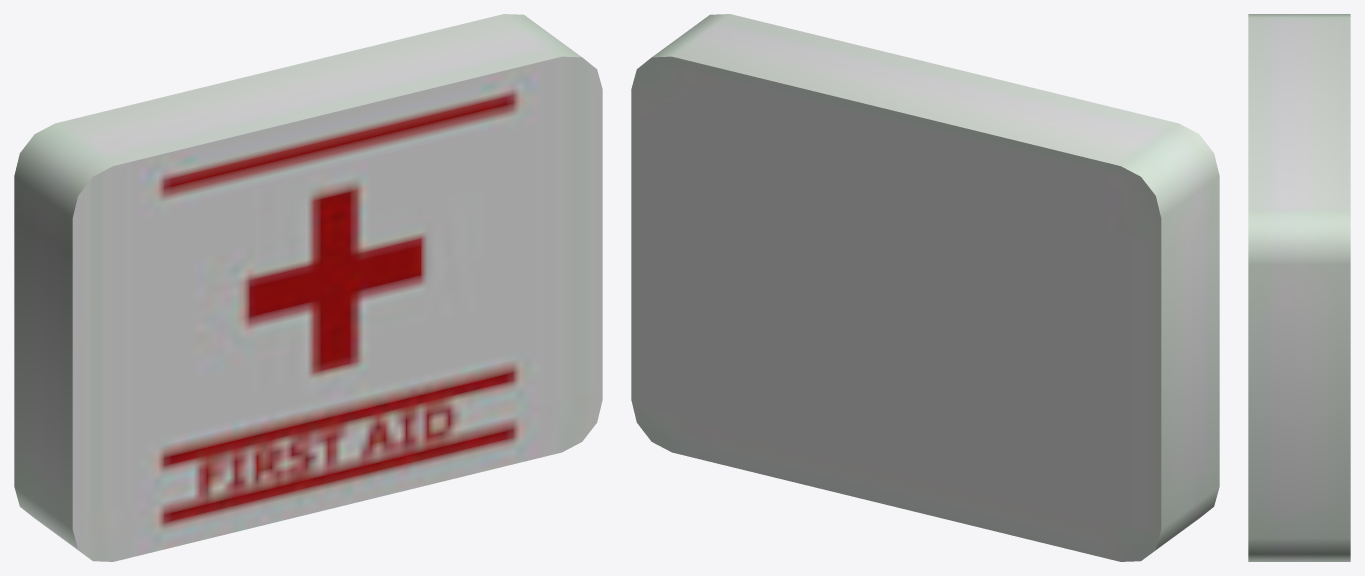
Rendered from firstaid.fbx.
3 views of the same model, side by side, from view 1: azimuth 30°, elevation 25°; view 2: azimuth 150°, elevation 25°; view 3: azimuth 270°, elevation 25° (orthographic). The views are drawn at different scales.
Visible parts, largest first — view 1: pCube1; view 2: pCube1; view 3: pCube1.
Part boxes in pixels (x1,y1,x2,y2): pCube1: [14, 14, 602, 561]; pCube1: [631, 14, 1219, 561]; pCube1: [1248, 14, 1350, 561].
Bounding box in the file's own units: 26.13 × 18.65 × 4.98.
Materials: 1 (1 with a texture image).
